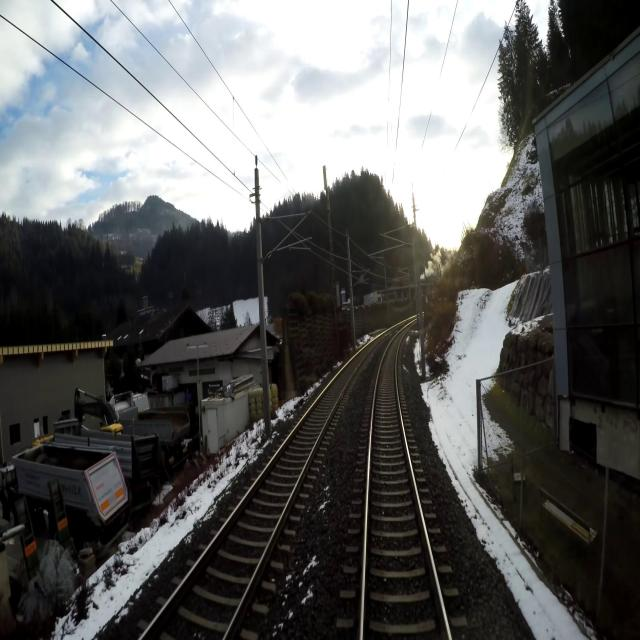rail-track: (144, 340, 377, 639), (364, 329, 447, 639)
